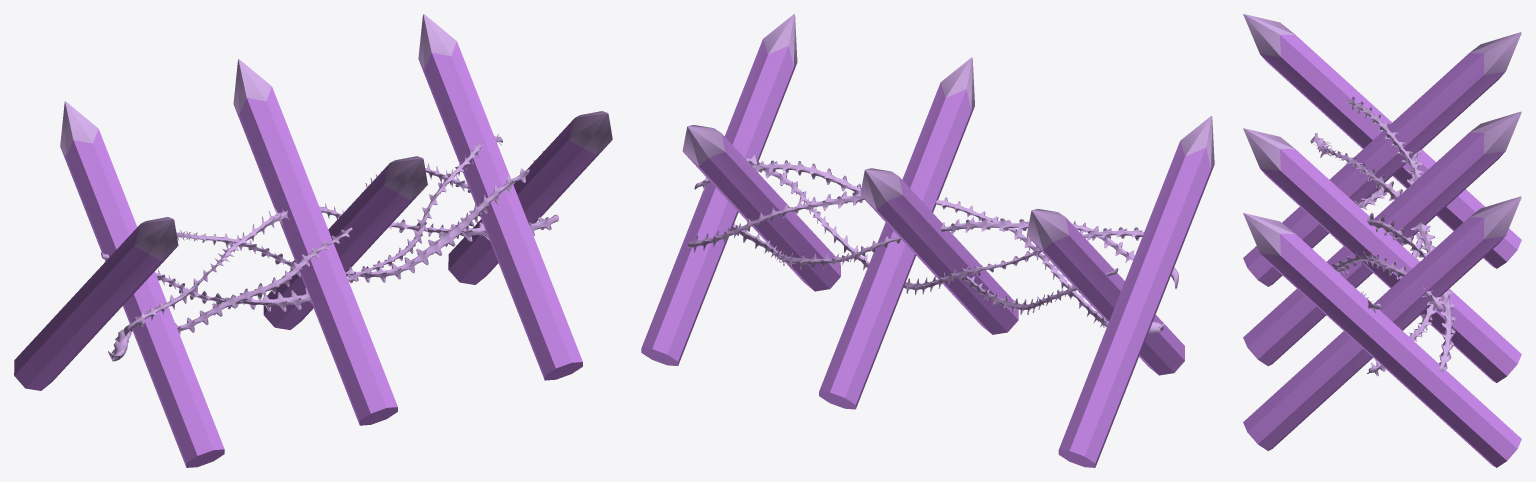
Rendered from stake_3x4.fbx.
The picture shows the model from 3 angles, left to right: view 1: azimuth 30°, elevation 25°; view 2: azimuth 150°, elevation 25°; view 3: azimuth 270°, elevation 25°; orthographic projection. The views are drawn at different scales.
Visible parts, largest first — view 1: polySurface3; view 2: polySurface3; view 3: polySurface3.
Boxes of the visible parts, x1,y1,x2,y2 form: polySurface3: [14, 14, 612, 467]; polySurface3: [641, 14, 1214, 467]; polySurface3: [1243, 14, 1521, 467].
Size of the model in its own units: 24.62 by 13.39 by 13.4.
